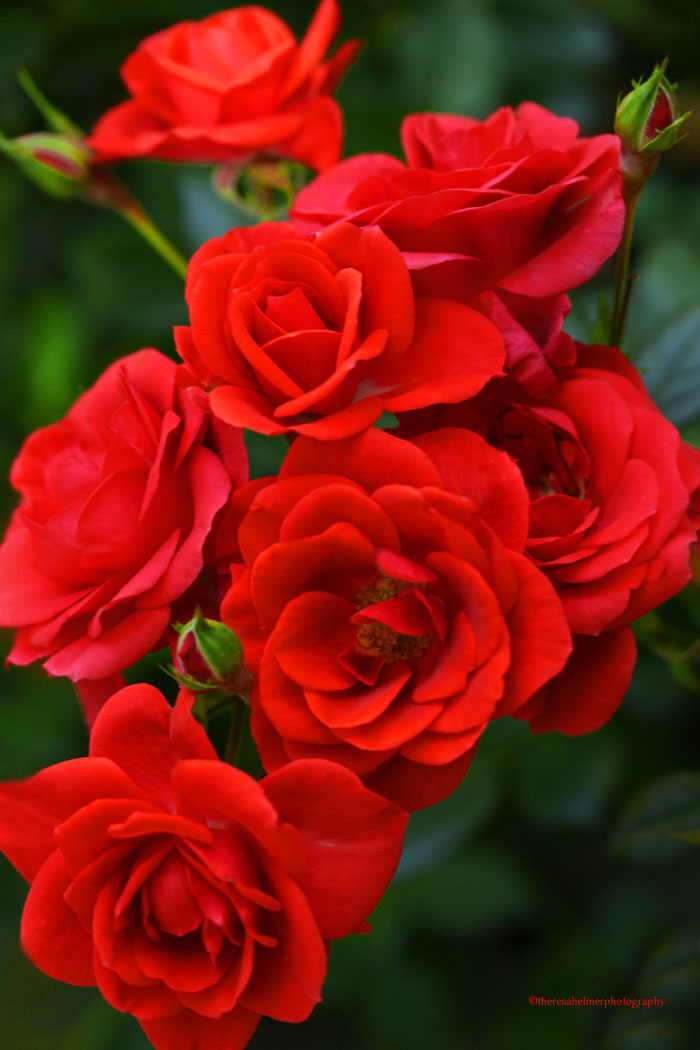Rose: (1, 722, 371, 1050), (245, 429, 538, 787), (441, 359, 694, 621), (17, 345, 203, 684), (174, 227, 418, 424), (106, 14, 338, 178)
